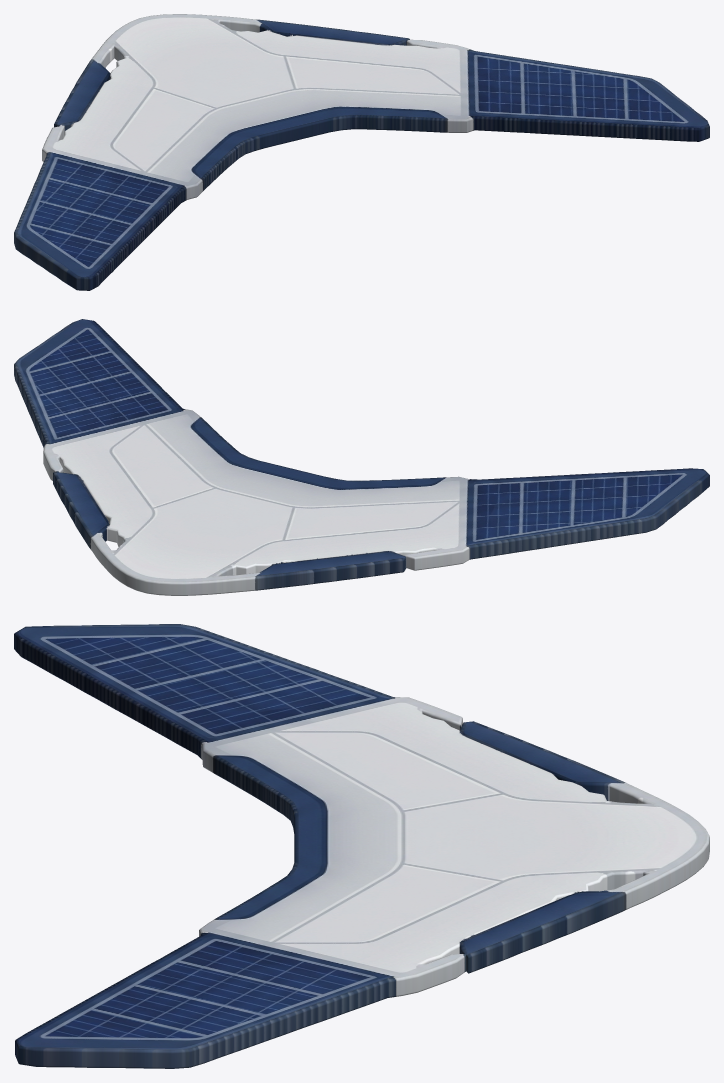
Rendered from Boomerang_25.fbx.
3 renders of one model, top to bottom at view 1: azimuth 30°, elevation 25°; view 2: azimuth 150°, elevation 25°; view 3: azimuth 270°, elevation 25°, orthographic. The views are drawn at different scales.
Parts seen in each view (by area): view 1: Boomerang_25; view 2: Boomerang_25; view 3: Boomerang_25.
Boxes of the visible parts, <box> form: Boomerang_25: <box>14,14,709,290</box>; Boomerang_25: <box>14,319,709,595</box>; Boomerang_25: <box>14,624,709,1068</box>.
Bounding box in the file's own units: 200 × 4 × 137.
Materials: 1 (1 with a texture image).
